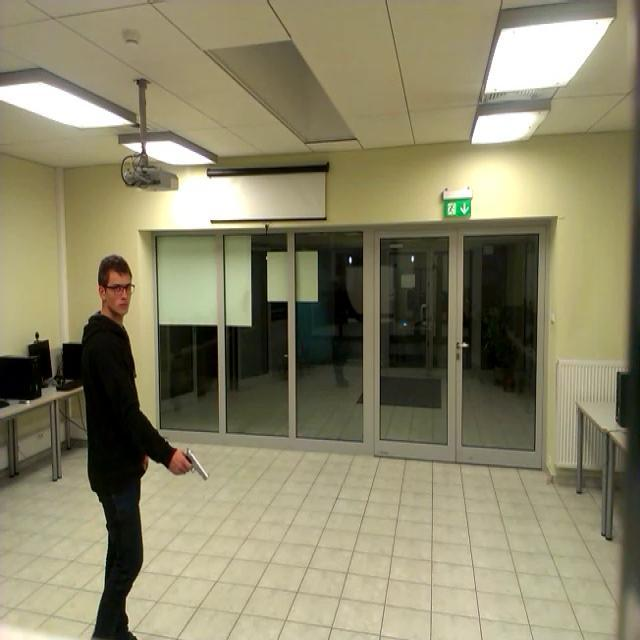Gun: (178, 440, 212, 486)
